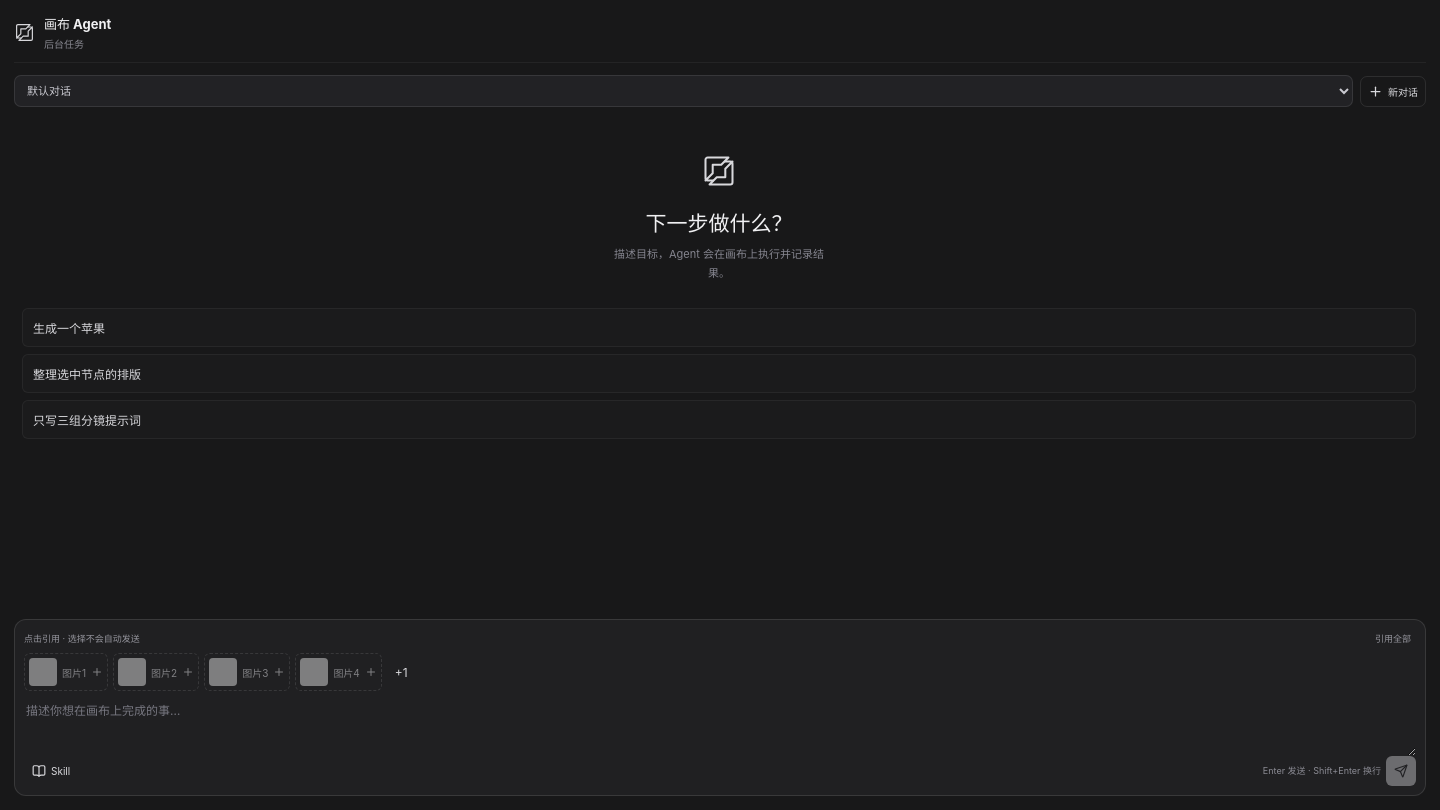
Test case: AgentSidebarPanel lifecycle boundaries › limits explicit image references before exceeding the backend vision budget
Later steps or results of the test are not shown.
Click the button "引用全部" at (1393, 638), box 1370,629 -> 1416,648
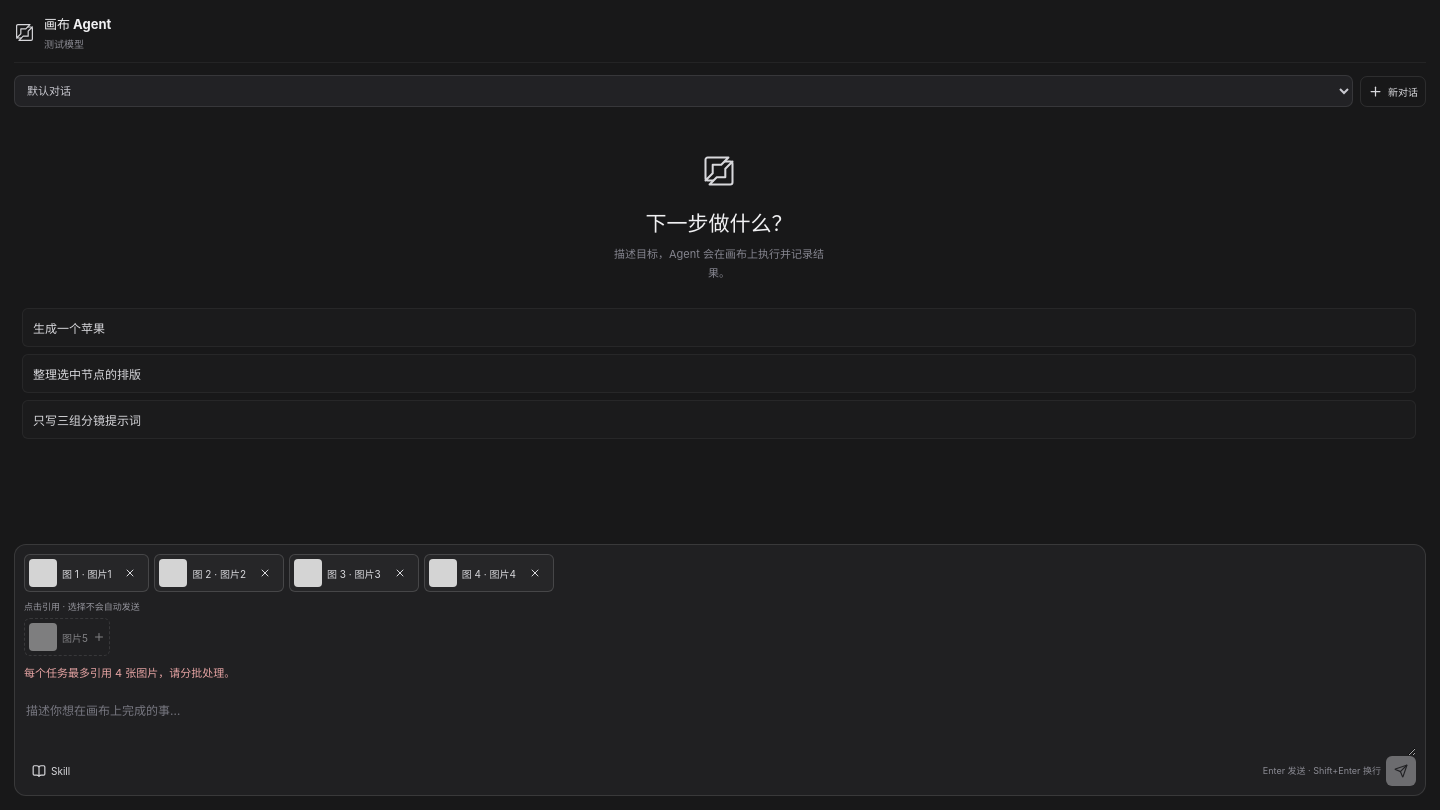
Now the button named "移除引用 图片4" is shown, box 521,561 -> 549,585
Now the message shows "最多引用 4 张", box 24,666 -> 235,680
